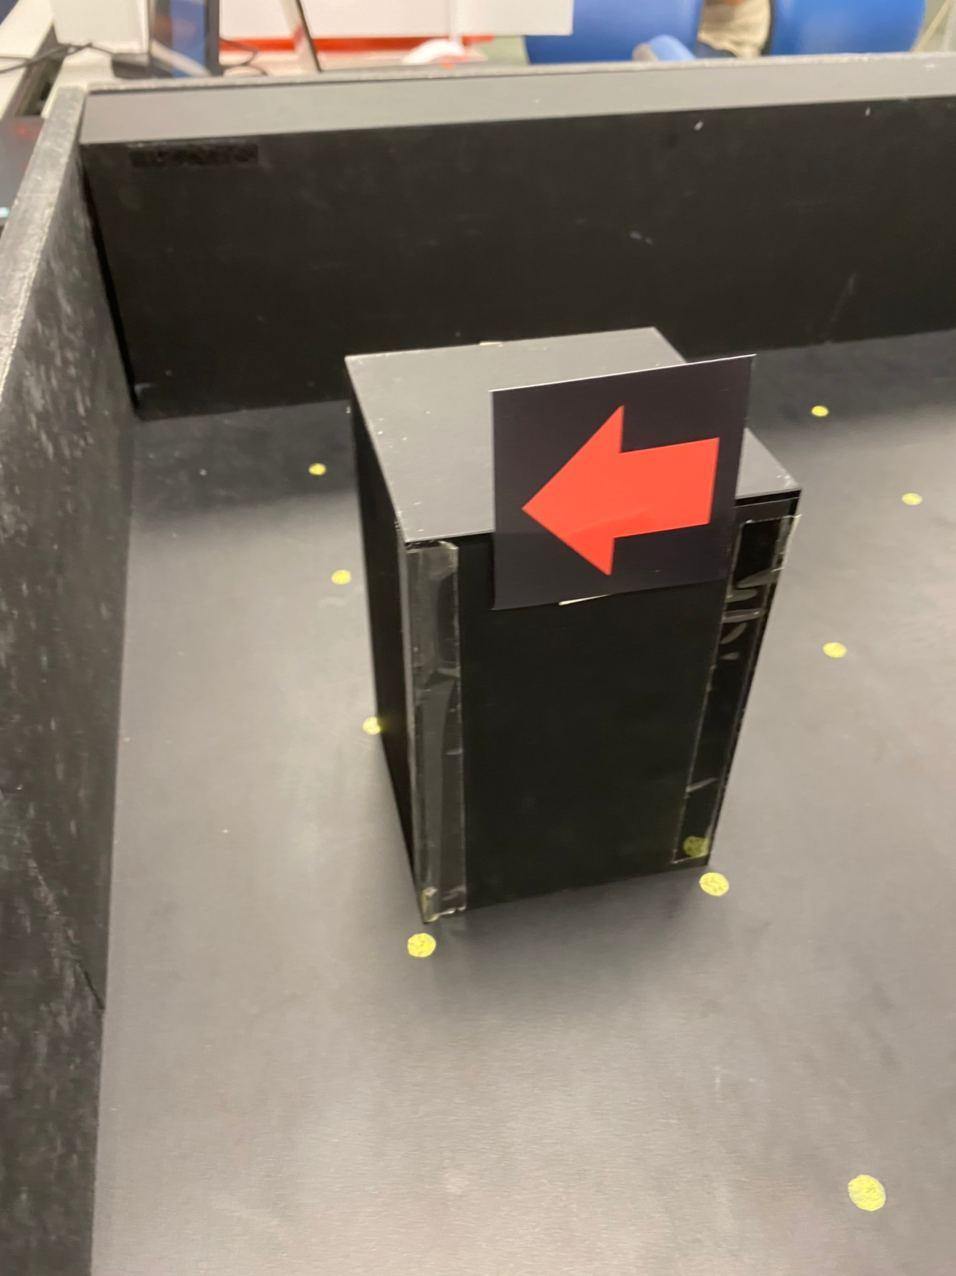left: (521, 404, 717, 576)
